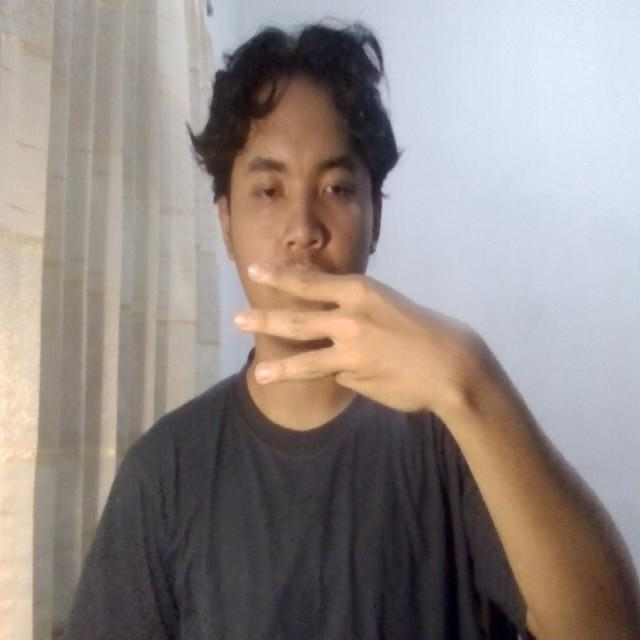E: (217, 253, 454, 428)
